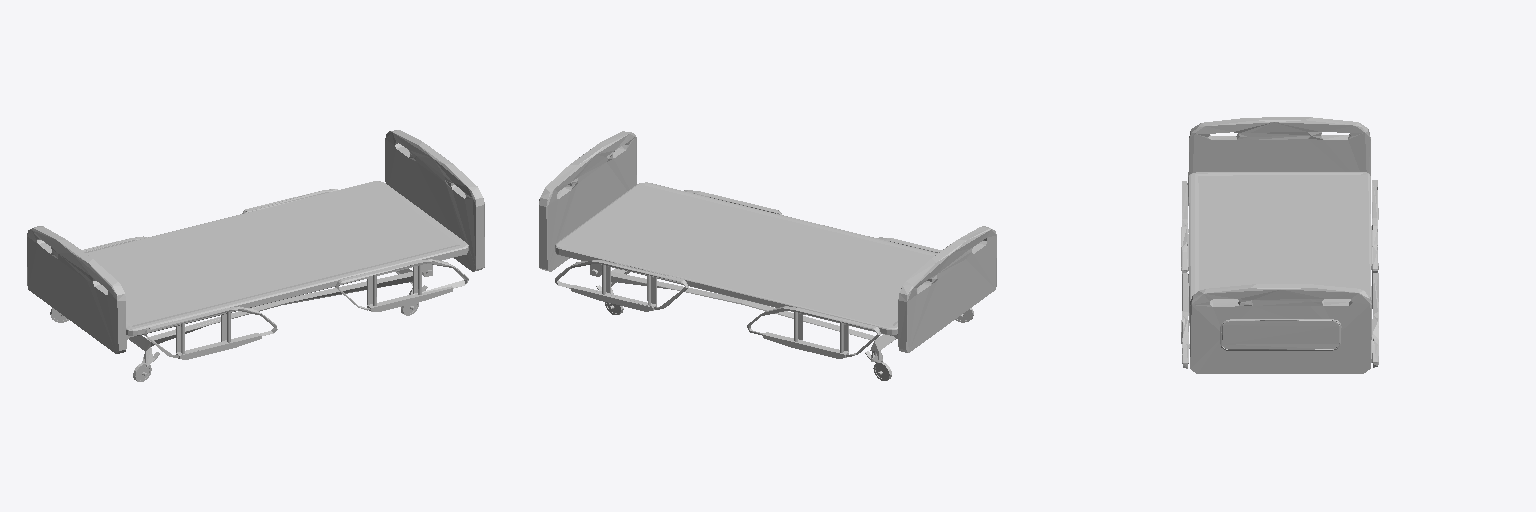
Rendered from hospital_bed_frame_reduced.obj.
3 renders of one model, left to right at view 1: azimuth 30°, elevation 25°; view 2: azimuth 150°, elevation 25°; view 3: azimuth 270°, elevation 25°, orthographic.
Parts seen in each view (by area): view 1: mmGroup0; view 2: mmGroup0; view 3: mmGroup0.
Part boxes in pixels (x1,y1,x2,y2): mmGroup0: (27, 130, 484, 381); mmGroup0: (539, 131, 996, 380); mmGroup0: (1181, 117, 1378, 373).
Size of the model in its own units: 2.34 by 0.7028 by 1.09.